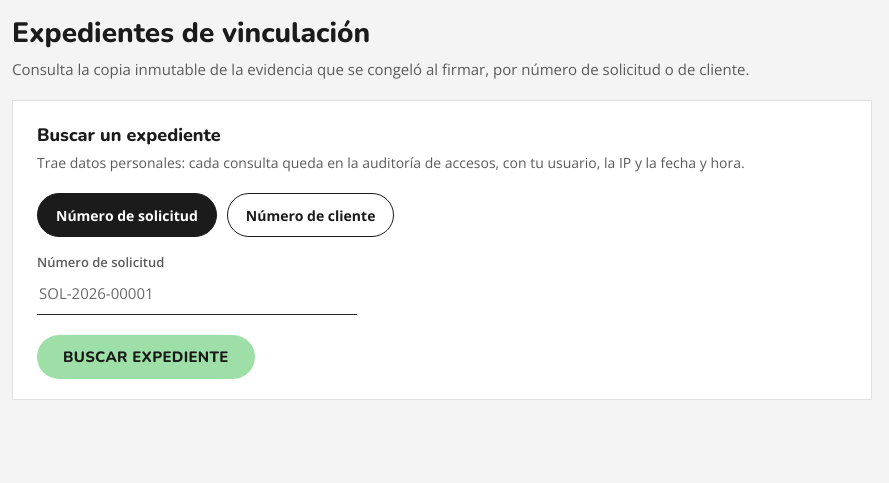
Scenario: DossiersView › explica el 404 de una solicitud que aún no firmó
Type "SOL-2026-00005" into the field labelled "Número de solicitud" at (197, 293), box [37,271,357,315]
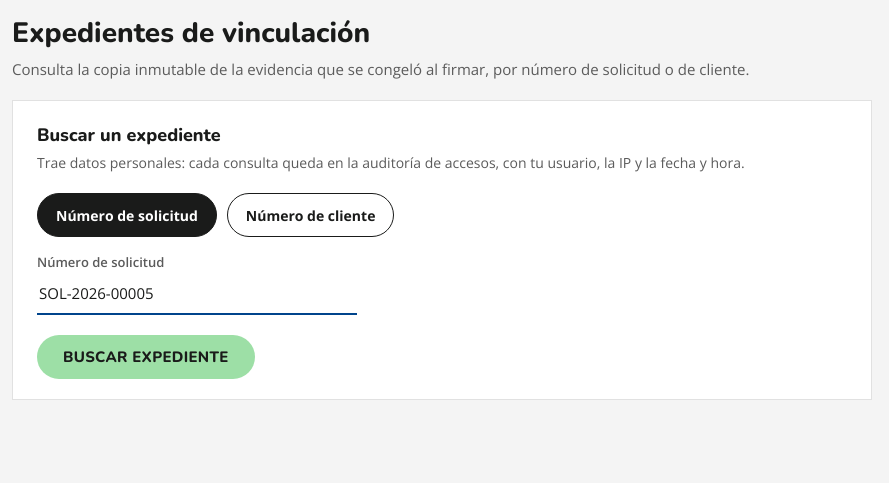
Click the button "Buscar expediente" at (146, 357), box [37,335,255,379]
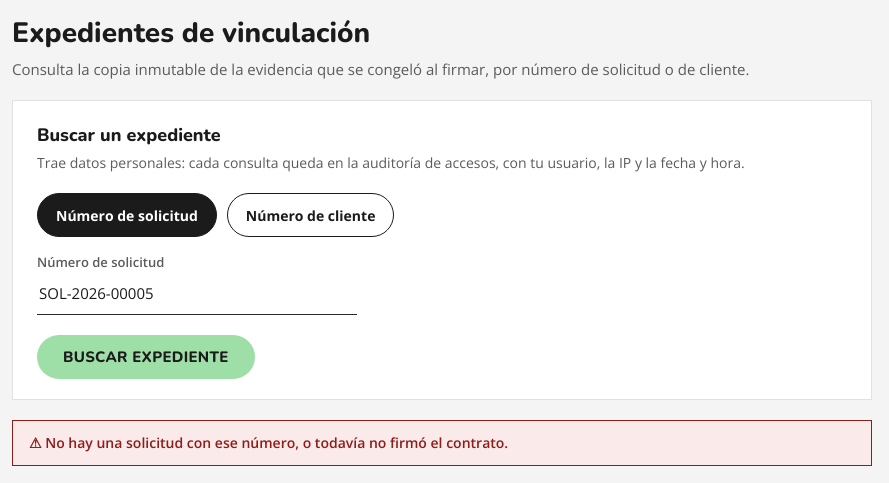
Expected: the message shows "todavía no firmó el contrato", [45,433,508,452]
